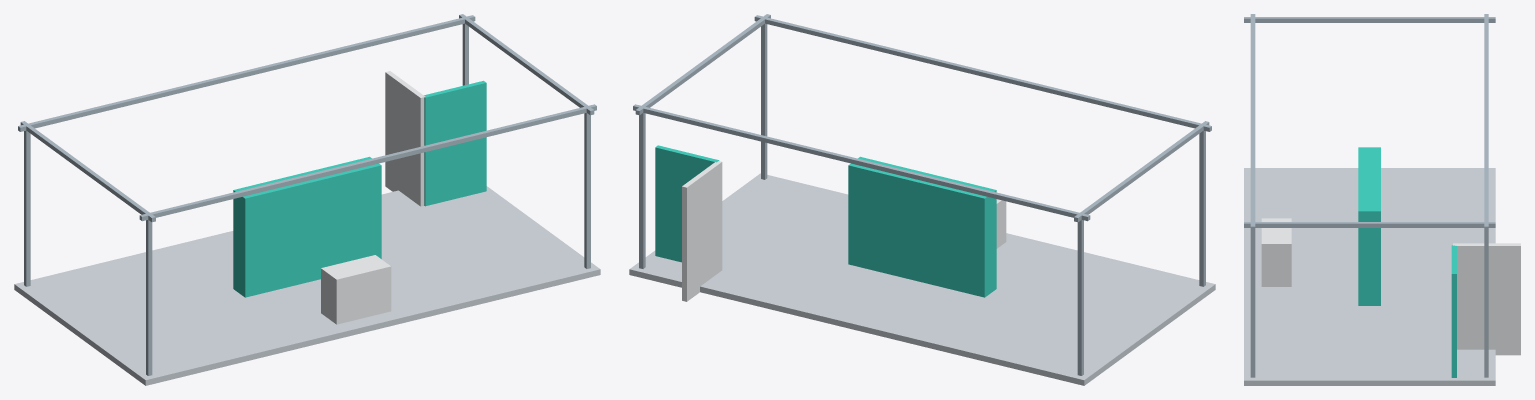
The picture shows the model from 3 angles, left to right: view 1: azimuth 30°, elevation 25°; view 2: azimuth 150°, elevation 25°; view 3: azimuth 270°, elevation 25°; orthographic projection. The views are drawn at different scales.
Visible parts, largest first — view 1: Exhibition Booth Concept; view 2: Exhibition Booth Concept; view 3: Exhibition Booth Concept.
Part boxes in pixels (x1,y1,x2,y2): Exhibition Booth Concept: [14, 14, 600, 385]; Exhibition Booth Concept: [629, 14, 1215, 385]; Exhibition Booth Concept: [1244, 14, 1520, 385].
Size of the model in its own units: 10 by 3.49 by 5.51.
